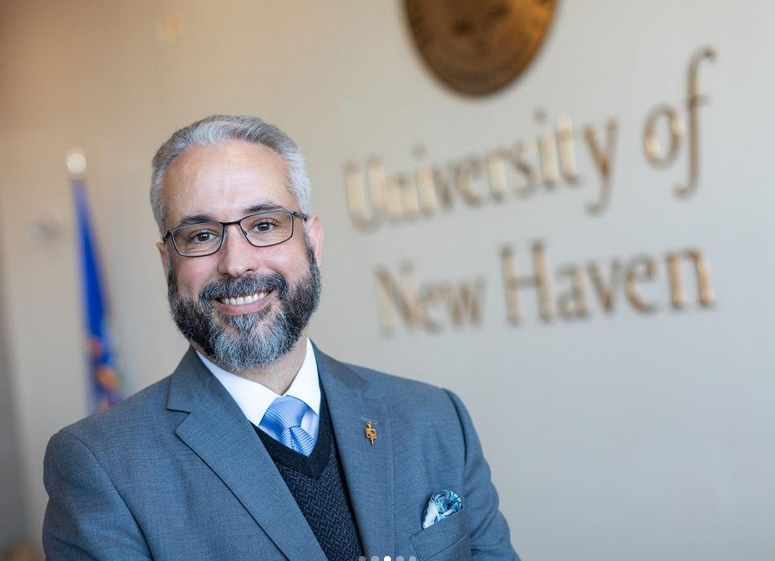Staff: (108, 103, 387, 417)
